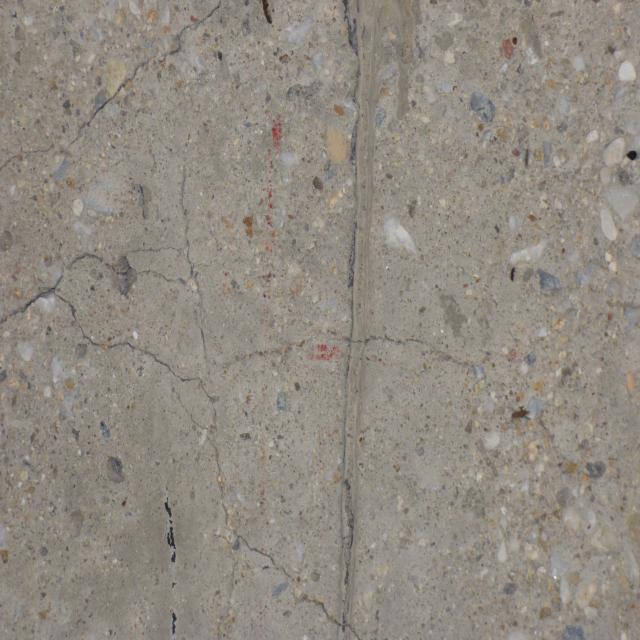corrosion: (258, 0, 273, 27)
